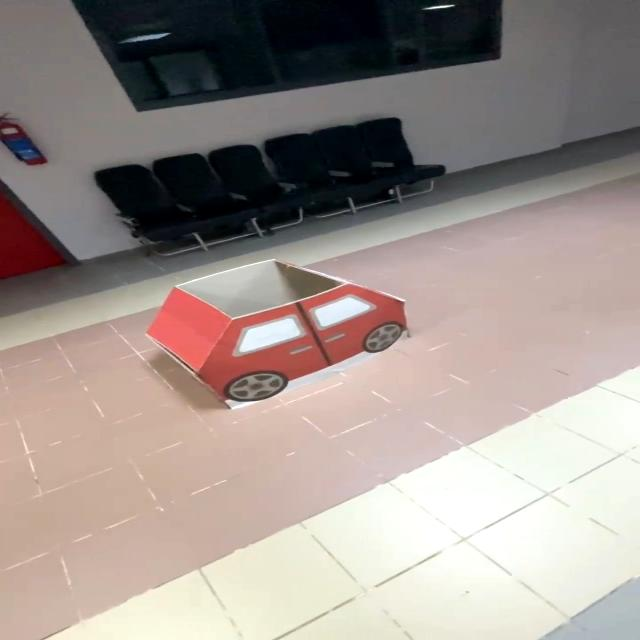red_car: (126, 251, 458, 418)
